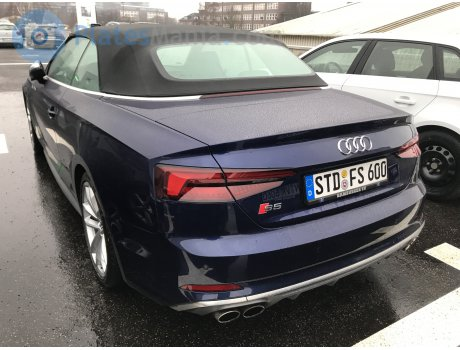License Plates: (299, 171, 389, 191)
